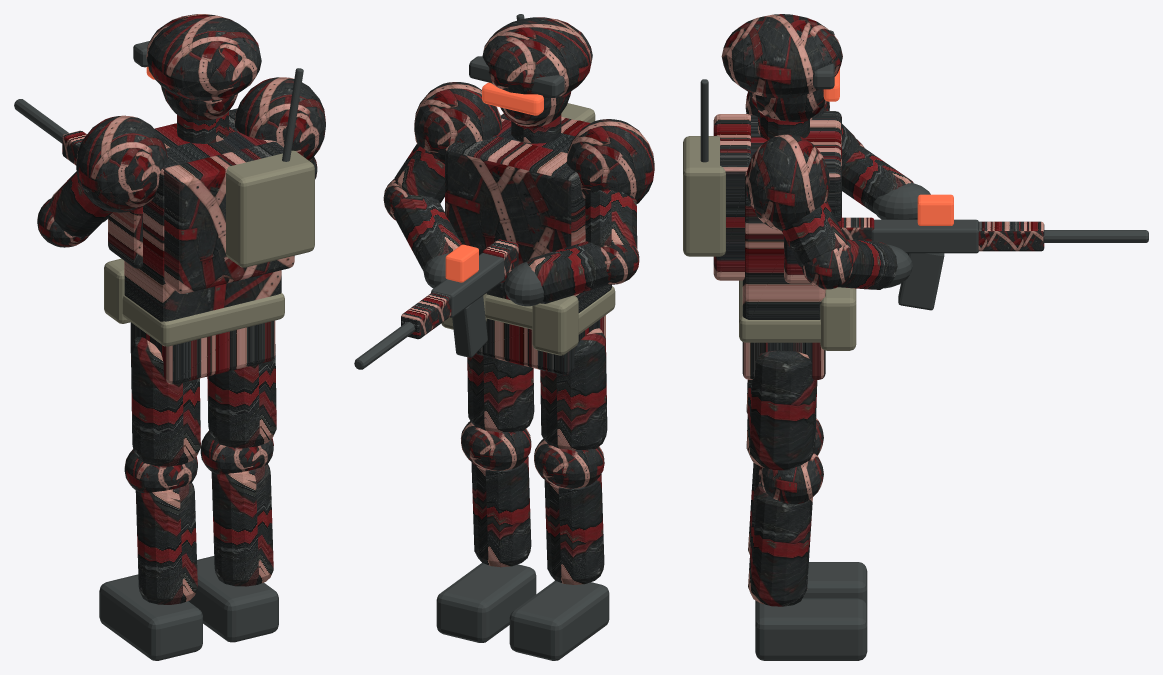
Rendered from enemy.glb.
The picture shows the model from 3 angles, left to right: view 1: azimuth 30°, elevation 25°; view 2: azimuth 150°, elevation 25°; view 3: azimuth 270°, elevation 25°; orthographic projection. The views are drawn at different scales.
Visible parts, largest first — view 1: back_plate, radio_pack, torso, helmet_shell, shoulder_l, thigh_l, shin_r, shin_l, boot_l, thigh_r, pelvis, shoulder_r (+13 smaller); view 2: plate_carrier, helmet_shell, thigh_l, boot_l, boot_r, shin_l, shin_r, shoulder_l, shoulder_r, thigh_r, forearm_l, forearm_r (+23 smaller); view 3: helmet_shell, thigh_r, boot_r, shin_r, shoulder_r, torso, radio_pack, back_plate, enemy_rifle_receiver, plate_carrier, forearm_l, upper_arm_r (+16 smaller).
Boxes of the visible parts, box(x1,y1,x2,y2) form: back_plate: box(163, 141, 294, 293); radio_pack: box(226, 150, 314, 267); torso: box(124, 131, 281, 321); helmet_shell: box(146, 14, 261, 100); shoulder_l: box(76, 115, 167, 212); thigh_l: box(131, 336, 200, 466); shin_r: box(211, 464, 273, 586); shin_l: box(135, 483, 197, 604); boot_l: box(99, 574, 202, 660); thigh_r: box(207, 344, 276, 447); pelvis: box(130, 320, 275, 384); shoulder_r: box(234, 77, 325, 160); plate_carrier: box(445, 136, 585, 264); helmet_shell: box(482, 17, 592, 98); thigh_l: box(540, 328, 607, 450); boot_l: box(509, 580, 609, 660); boot_r: box(436, 563, 536, 642); shin_l: box(544, 474, 604, 584); shin_r: box(471, 456, 531, 567); shoulder_l: box(567, 119, 654, 203); shoulder_r: box(414, 82, 501, 163); thigh_r: box(467, 354, 534, 432); forearm_l: box(527, 241, 609, 303); forearm_r: box(393, 194, 461, 271); helmet_shell: box(721, 14, 842, 98); thigh_r: box(746, 350, 817, 470); boot_r: box(755, 598, 867, 660); shin_r: box(748, 482, 812, 606); shoulder_r: box(745, 134, 829, 231); torso: box(742, 114, 825, 319); radio_pack: box(683, 136, 725, 256); back_plate: box(713, 114, 750, 280); enemy_rifle_receiver: box(871, 219, 978, 253); plate_carrier: box(784, 111, 841, 283); forearm_l: box(842, 145, 913, 213); upper_arm_r: box(782, 201, 846, 267).
Size of the model in its own units: 0.844 by 1.87 by 1.29.
6 materials, 3 textured.
